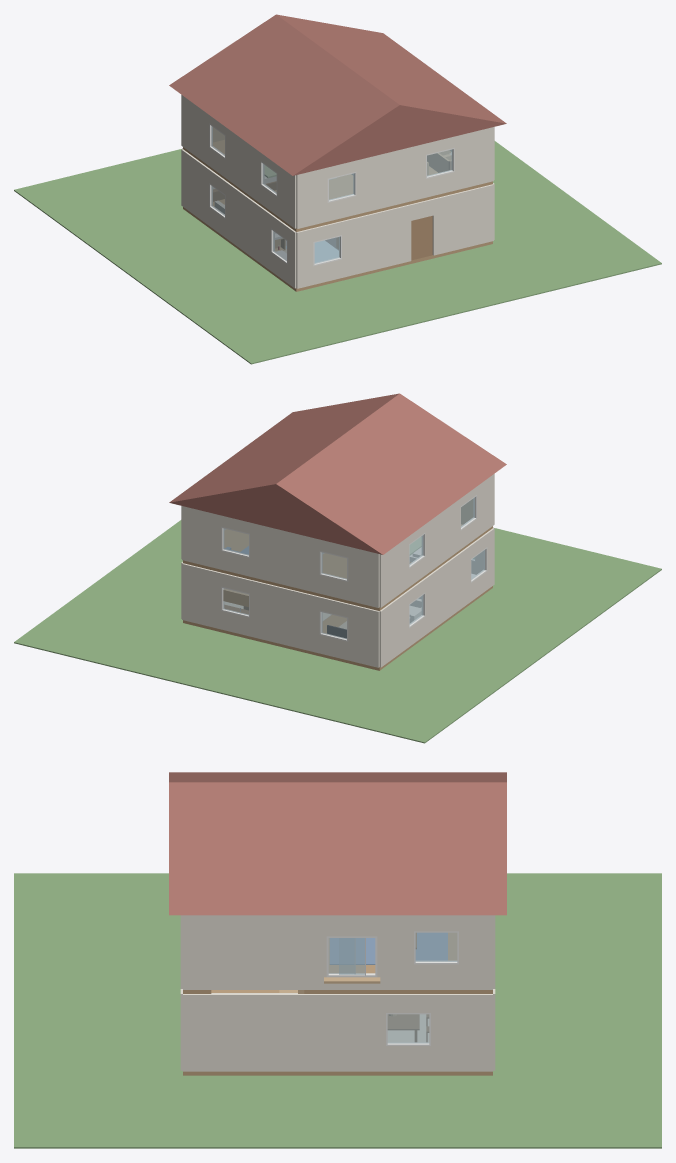
File: StopItHouse.fbx
3 views of the same model, one above another, from view 1: azimuth 30°, elevation 25°; view 2: azimuth 150°, elevation 25°; view 3: azimuth 270°, elevation 25° (orthographic). The views are drawn at different scales.
Parts seen in each view (by area): view 1: Ground, Roof, G_WallS_s1, U_WallS_s1, G_WallS_s2, G_WallW_s1, U_WallS_s2, U_WallW_s1, U_WallS_s0, G_WallW_s2, U_Floor_W, U_WallW_s2 (+11 smaller); view 2: Ground, Roof, G_WallN_s1, U_WallN_s1, G_WallW_s1, G_WallN_s2, U_WallN_s2, U_WallW_s1, G_WallN_s0, U_WallN_s0, G_WallW_s2, U_WallW_s2 (+12 smaller); view 3: Ground, Roof, G_WallE_s0, U_WallE_s0, G_WallE_s1, U_WallE_s1, U_WallE_s2, J_rug, G_Floor, U_WinJeuxE_glass, G_WinCuisE_glass, G_WallE_b0 (+7 smaller).
Boxes of the visible parts, box(x1,y1,x2,y2) form: Ground: box(14, 141, 661, 364); Roof: box(169, 14, 506, 175); G_WallS_s1: box(341, 204, 411, 277); U_WallS_s1: box(356, 143, 425, 214); G_WallS_s2: box(432, 184, 493, 255); G_WallW_s1: box(225, 181, 272, 270); U_WallS_s2: box(454, 127, 493, 190); U_WallW_s1: box(225, 127, 260, 203); U_WallS_s0: box(296, 167, 327, 228); G_WallW_s2: box(181, 149, 210, 225); U_Floor_W: box(183, 140, 460, 231); U_WallW_s2: box(181, 95, 209, 165); Ground: box(14, 520, 661, 743); Roof: box(169, 393, 506, 554); G_WallN_s1: box(250, 580, 320, 653); U_WallN_s1: box(250, 522, 319, 593); G_WallW_s1: box(424, 545, 470, 634); G_WallN_s2: box(182, 563, 221, 629); U_WallN_s2: box(182, 506, 221, 569); U_WallW_s1: box(425, 498, 460, 574); G_WallN_s0: box(348, 604, 379, 667); U_WallN_s0: box(348, 546, 379, 607); G_WallW_s2: box(379, 591, 408, 667); U_WallW_s2: box(379, 536, 408, 607); Ground: box(14, 873, 661, 1148); Roof: box(169, 772, 506, 915); G_WallE_s0: box(183, 993, 385, 1071); U_WallE_s0: box(183, 915, 326, 989); G_WallE_s1: box(431, 994, 492, 1071); U_WallE_s1: box(377, 915, 413, 989); U_WallE_s2: box(459, 915, 492, 989); J_rug: box(330, 933, 447, 964); G_Floor: box(183, 990, 492, 1075); U_WinJeuxE_glass: box(415, 932, 457, 961); G_WinCuisE_glass: box(387, 1014, 429, 1043); G_WallE_b0: box(386, 1046, 430, 1071).
Size of the model in its own units: 23 by 8.98 by 23.
